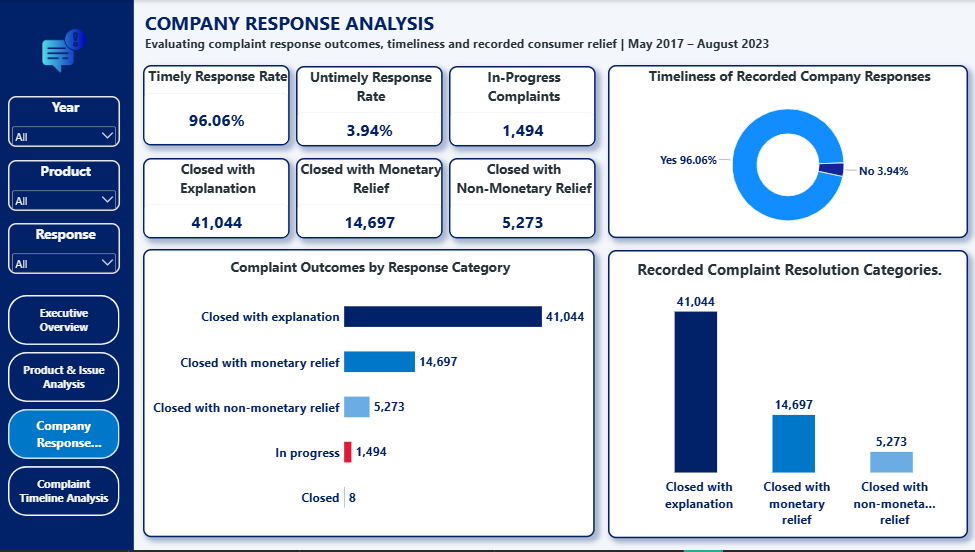

This screenshot's page, from the dashboard's own definition file:
{"tool":"powerbi","page":{"name":"Company Response Analysis","canvas":[1920,1080],"ordinal":2},"visuals":[{"type":"textbox","box":[284.2,0,1255,128.7],"z":0},{"type":"cardVisual","title":"Untimely Response Rate","fields":{"Data":["KPI Measures.Untimely Response Rate"]},"box":[581,128.7,288,158.2],"z":1000},{"type":"cardVisual","title":"Closed with Explanation","fields":{"Data":["KPI Measures.Closed with Explanation"]},"box":[281,311,288,158],"z":2000},{"type":"clusteredBarChart","title":"Complaint Outcomes by Response Category","fields":{"Category":["consumer_complaints_analytics complaints.Company_Response_to_Consumer"],"Y":["KPI Measures.Total Complaints"]},"box":[281.6,488,887,566],"z":3000},{"type":"shape","box":[0,0,262.8,1080.7],"z":4500},{"type":"cardVisual","title":"Closed with Monetary Relief","fields":{"Data":["KPI Measures.Closed with Monetary Relief"]},"box":[581,311,288,158],"z":5000},{"type":"cardVisual","title":"Closed with Non-Monetary Relief","fields":{"Data":["KPI Measures.Closed with Non-Monetary Relief"]},"box":[882,311,288,158],"z":6000},{"type":"donutChart","title":"Timeliness of Recorded Company Responses","fields":{"Category":["consumer_complaints_analytics complaints.Timely_Response"],"Y":["KPI Measures.Total Complaints"]},"box":[1193,128,707,340],"z":7000},{"type":"clusteredColumnChart","title":"Recorded Complaint Resolution Categories.","fields":{"Category":["consumer_complaints_analytics complaints.Company_Response_to_Consumer"],"Y":["KPI Measures.Total Complaints"]},"box":[1193,490,707,566],"z":9000},{"type":"cardVisual","title":"Timely Response Rate","fields":{"Data":["consumer_complaints_analytics complaints.Timely Response Rate"]},"box":[281,128,288,158],"z":10000},{"type":"cardVisual","title":"In-Progress Complaints","fields":{"Data":["consumer_complaints_analytics complaints.In-Progress Complaints"]},"box":[882,128.7,288,158.2],"z":11000},{"type":"slicer","title":"Year","fields":{"Values":["Date.Year"]},"box":[16.1,187.7,220,100],"z":12000},{"type":"slicer","title":"Product","fields":{"Values":["consumer_complaints_analytics complaints.Product"]},"box":[16.1,314.1,220,100],"z":13000},{"type":"slicer","title":"Response ","fields":{"Values":["consumer_complaints_analytics complaints.Company_Response_to_Consumer"]},"box":[16.1,438,220,100],"z":13001},{"type":"pageNavigator","box":[16.1,579.2,219.9,437.1],"z":13002},{"type":"image","box":[74.9,50.7,100,100],"z":13003}]}

Visuals, with their boxes in screenshot pixels (x1, y1, x2, y2), scaled from the page's 1920x1080 canvas onto the 975x552 screenshot:
textbox: {"x1": 144, "y1": 0, "x2": 782, "y2": 66}
"Untimely Response Rate" cardVisual: {"x1": 295, "y1": 66, "x2": 441, "y2": 147}
"Closed with Explanation" cardVisual: {"x1": 143, "y1": 159, "x2": 289, "y2": 240}
"Complaint Outcomes by Response Category" clusteredBarChart: {"x1": 143, "y1": 249, "x2": 593, "y2": 539}
shape: {"x1": 0, "y1": 0, "x2": 133, "y2": 551}
"Closed with Monetary Relief" cardVisual: {"x1": 295, "y1": 159, "x2": 441, "y2": 240}
"Closed with Non-Monetary Relief" cardVisual: {"x1": 448, "y1": 159, "x2": 594, "y2": 240}
"Timeliness of Recorded Company Responses" donutChart: {"x1": 606, "y1": 65, "x2": 965, "y2": 239}
"Recorded Complaint Resolution Categories." clusteredColumnChart: {"x1": 606, "y1": 250, "x2": 965, "y2": 540}
"Timely Response Rate" cardVisual: {"x1": 143, "y1": 65, "x2": 289, "y2": 146}
"In-Progress Complaints" cardVisual: {"x1": 448, "y1": 66, "x2": 594, "y2": 147}
"Year" slicer: {"x1": 8, "y1": 96, "x2": 120, "y2": 147}
"Product" slicer: {"x1": 8, "y1": 161, "x2": 120, "y2": 212}
"Response " slicer: {"x1": 8, "y1": 224, "x2": 120, "y2": 275}
pageNavigator: {"x1": 8, "y1": 296, "x2": 120, "y2": 519}
image: {"x1": 38, "y1": 26, "x2": 89, "y2": 77}
